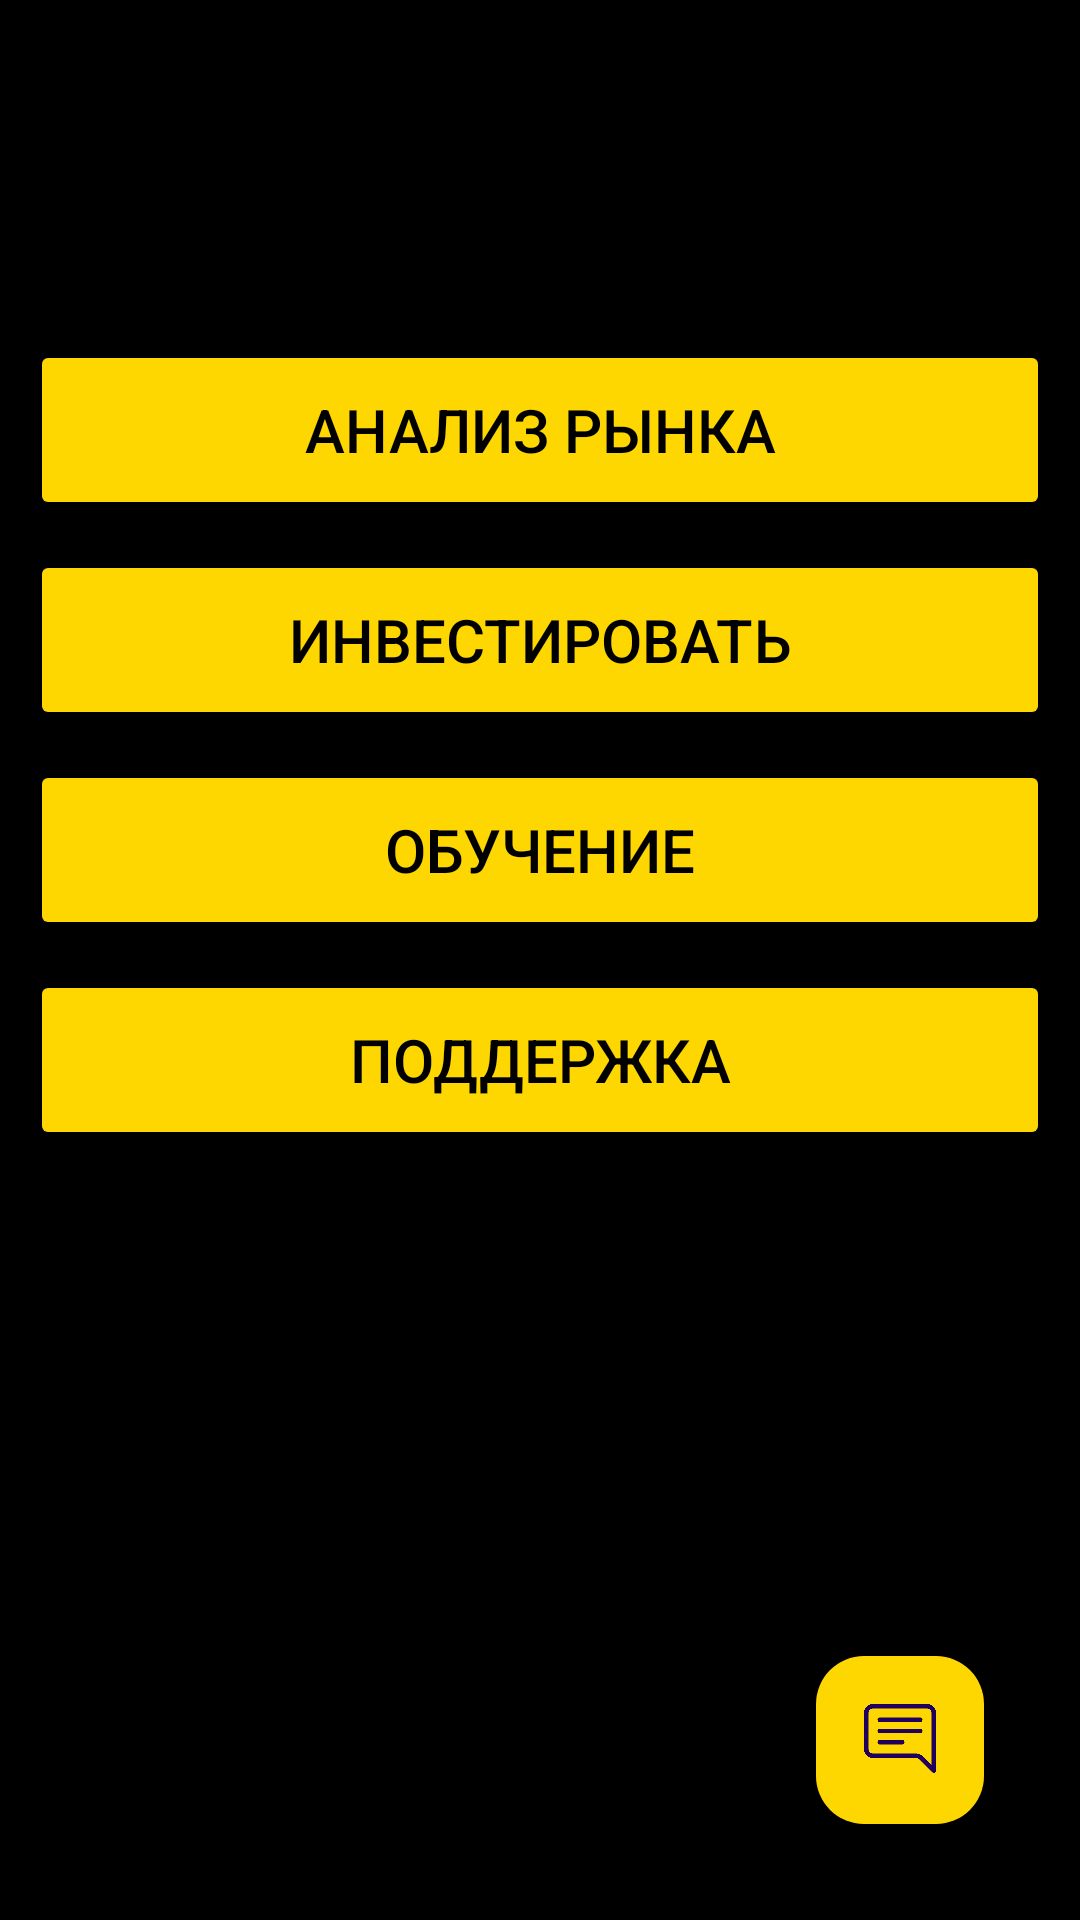

Locate icon controls on the screen. Image size 1080×1920, boxes as (x1, y1, x2, y2).
open chat: (816, 1656, 984, 1824)
